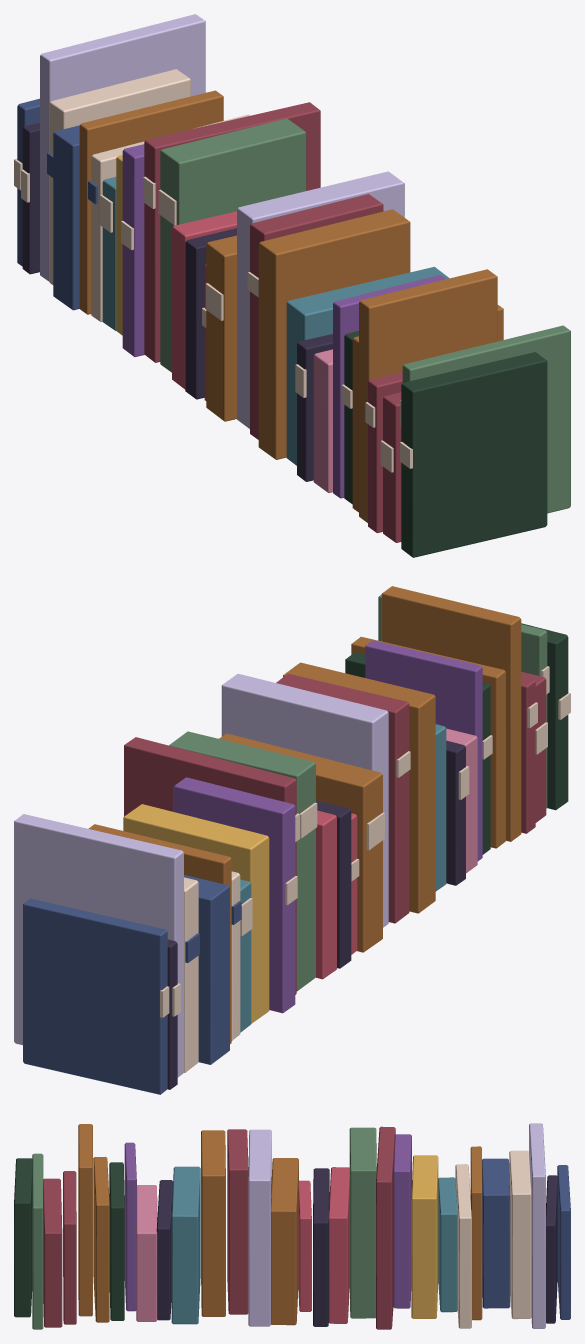
Rendered from books_shelf_1.fbx.
The picture shows the model from 3 angles, top to bottom: view 1: azimuth 30°, elevation 25°; view 2: azimuth 150°, elevation 25°; view 3: azimuth 270°, elevation 25°; orthographic projection. The views are drawn at different scales.
Parts seen in each view (by area): view 1: books_shelf_1; view 2: books_shelf_1; view 3: books_shelf_1.
Boxes of the visible parts, x1=… form: books_shelf_1: x1=14, y1=14, x2=570, y2=557; books_shelf_1: x1=14, y1=586, x2=570, y2=1094; books_shelf_1: x1=14, y1=1123, x2=570, y2=1329.
Size of the model in its own units: 0.2456 by 0.2959 by 0.9736.
